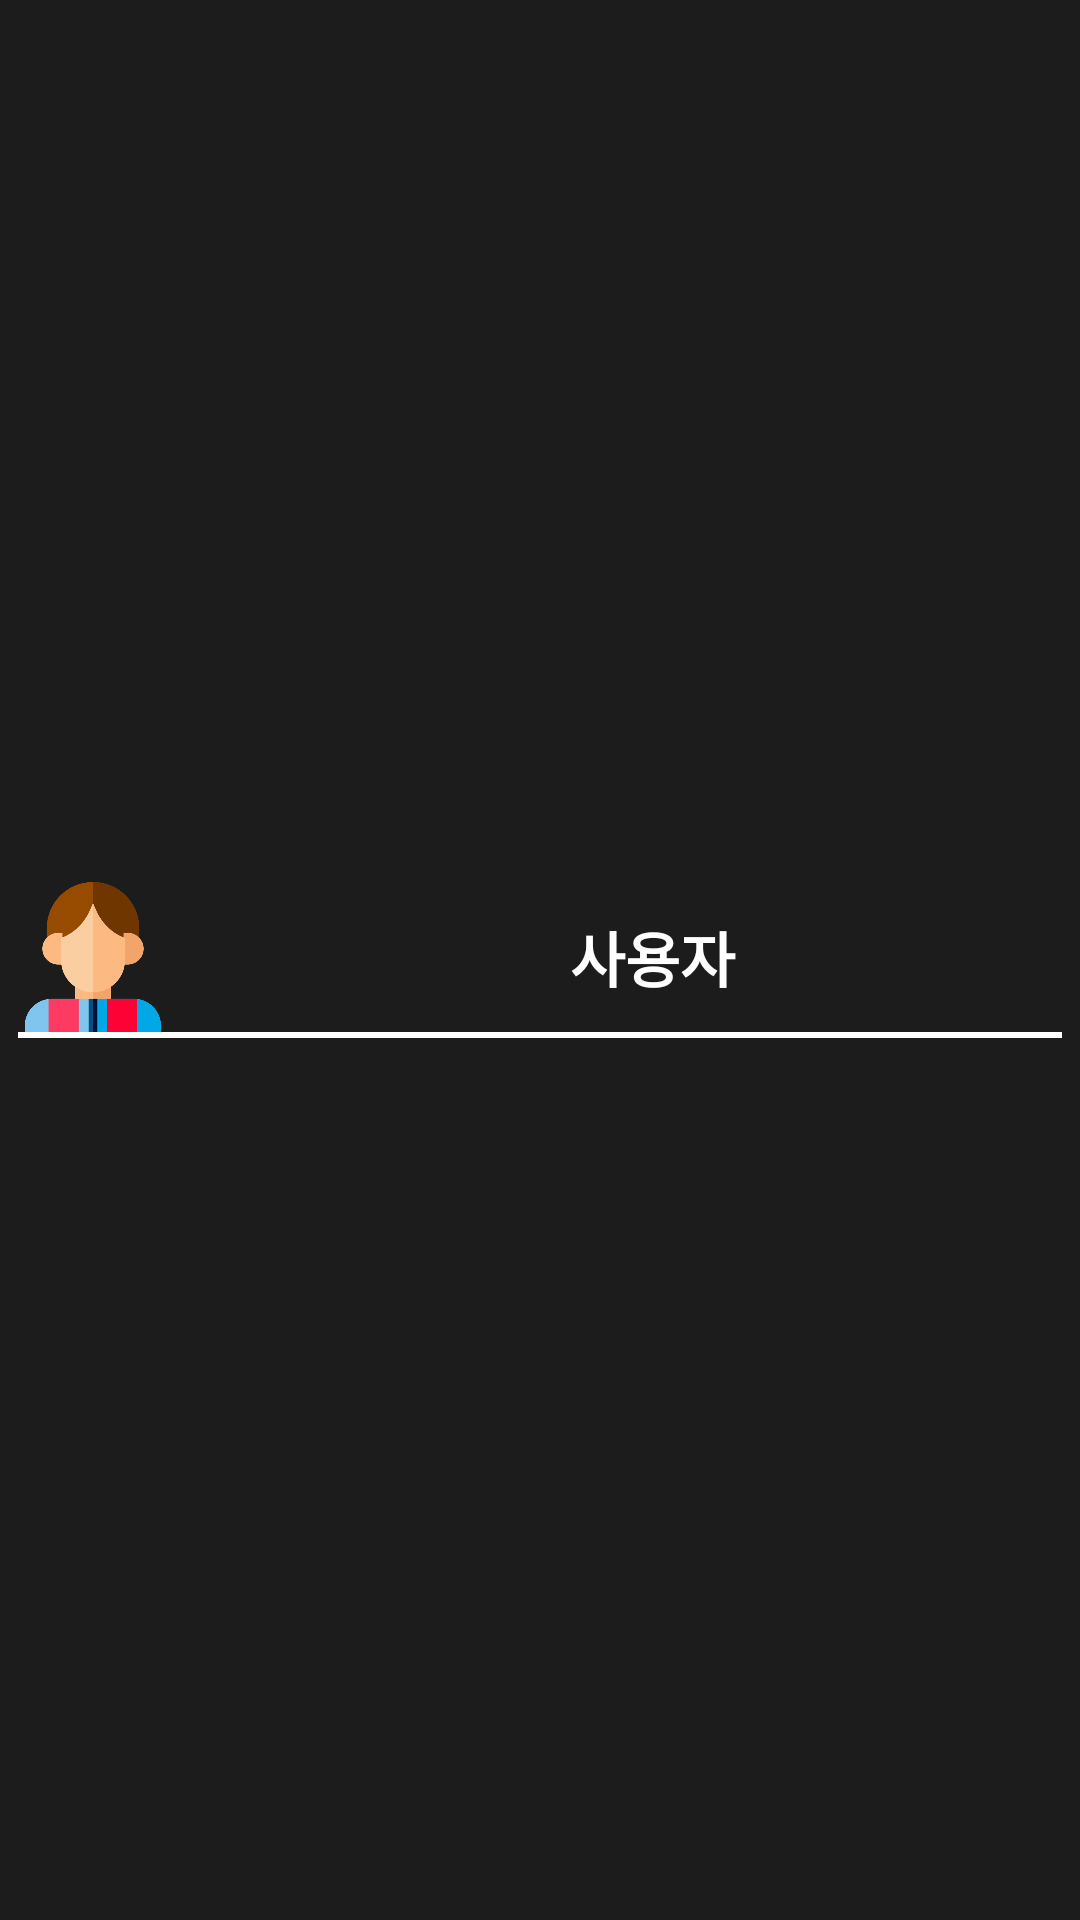

Screen size 1080*1920. Icon name, then its box in pixels as detection(x1, y1, x2, y2):
people: detection(25, 882, 161, 1032)
